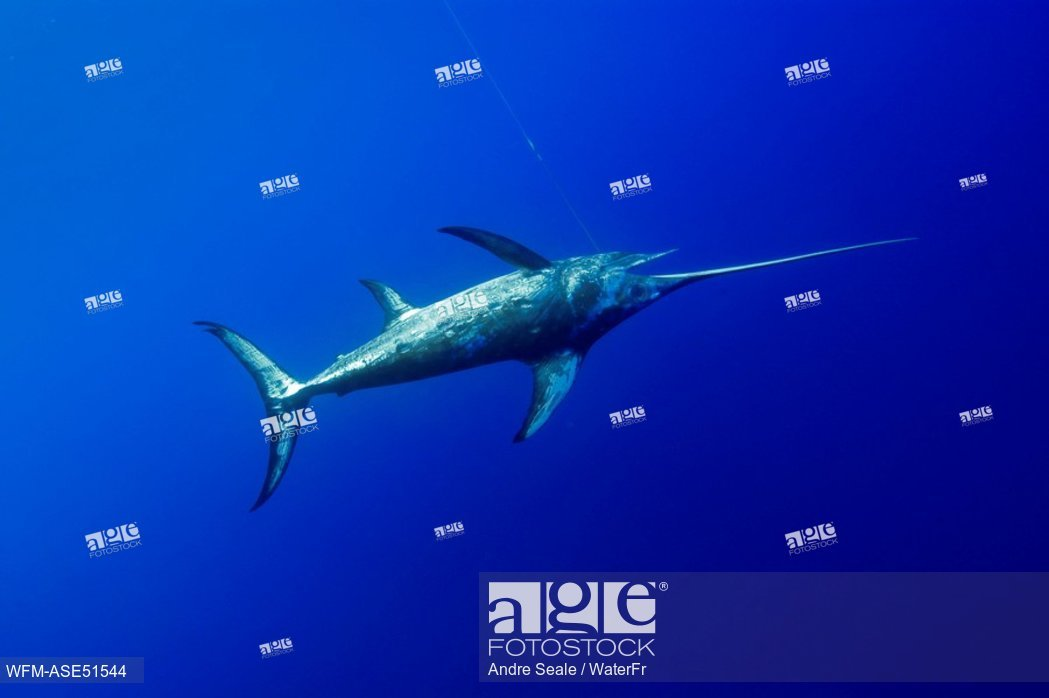swordfish: (173, 181, 925, 490)
